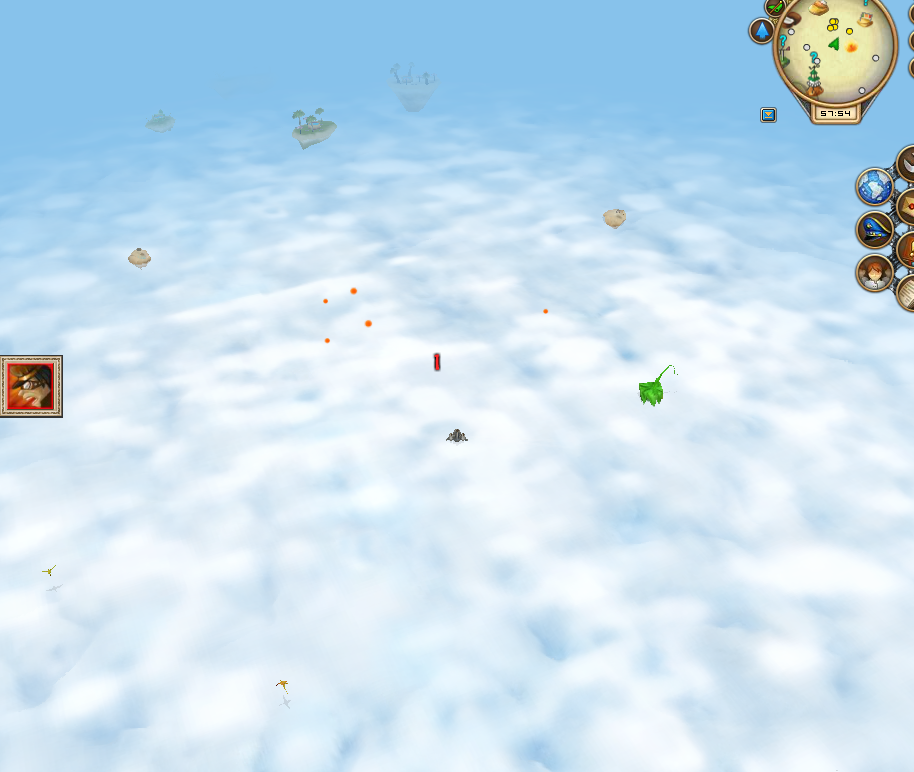dandelion-empty: (635, 361, 675, 404)
fluff: (362, 317, 374, 330), (539, 306, 551, 317), (322, 334, 332, 345), (348, 286, 358, 296), (320, 296, 330, 306)
